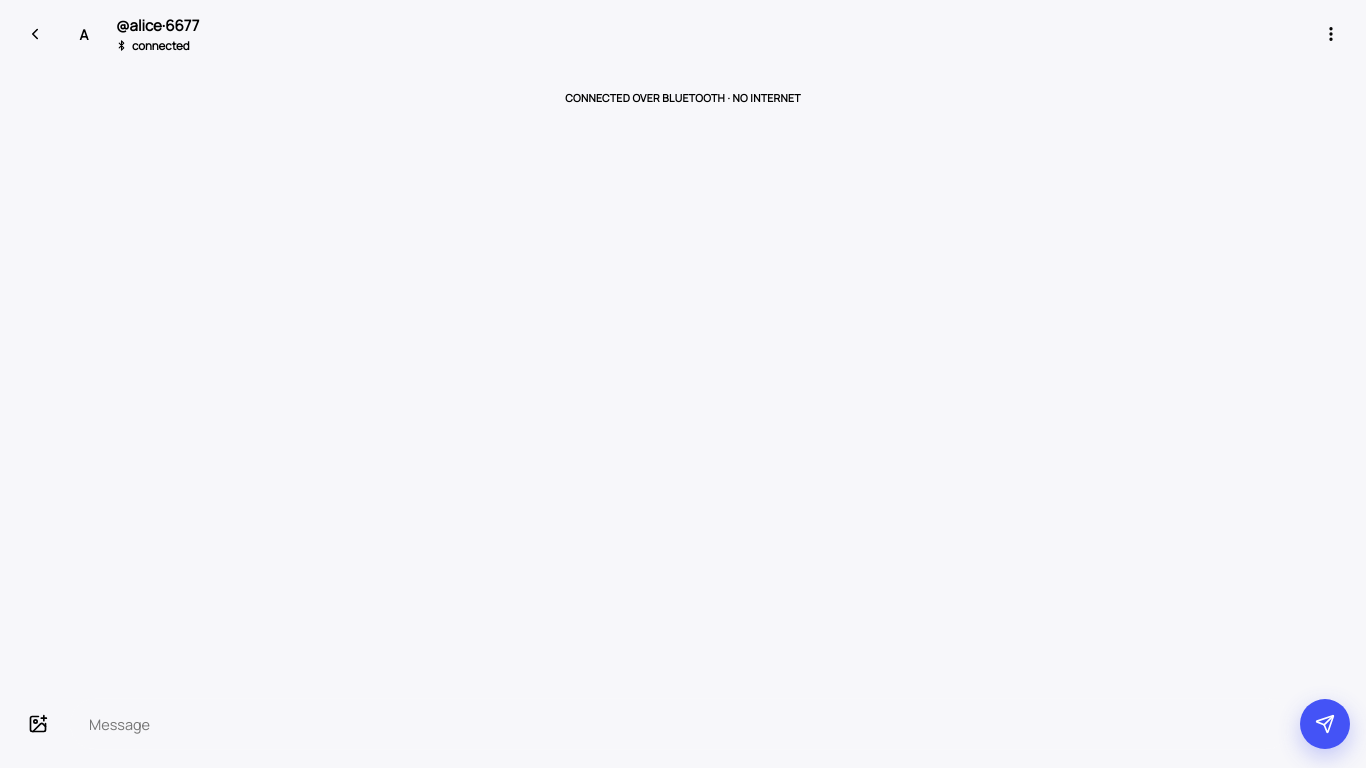
ChatScreen — blocking a contact › keeps the composer and reports it when blocking fails
Click the button named "Chat options" at (1331, 34), box [1314,17,1348,51]
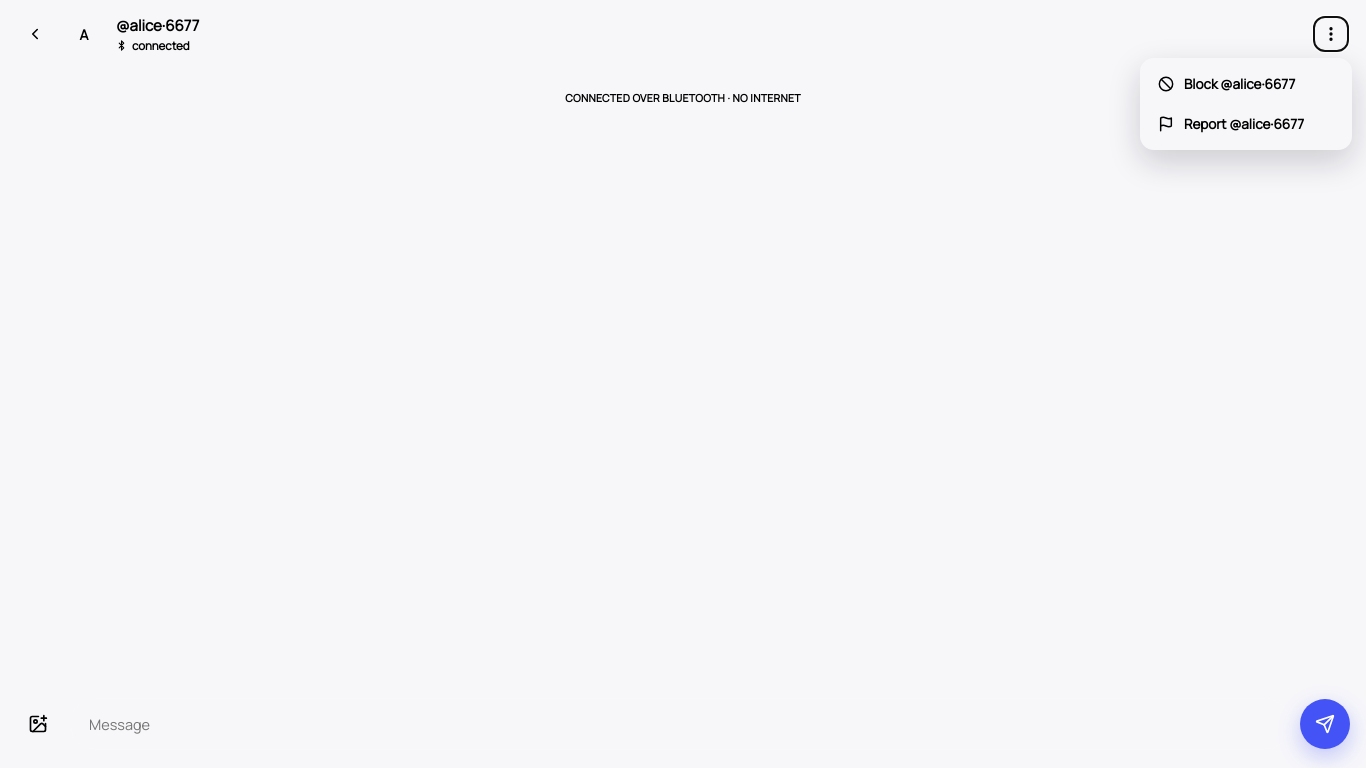
Click the menu item "Block @alice·6677" at (1246, 84), box [1146,64,1346,104]
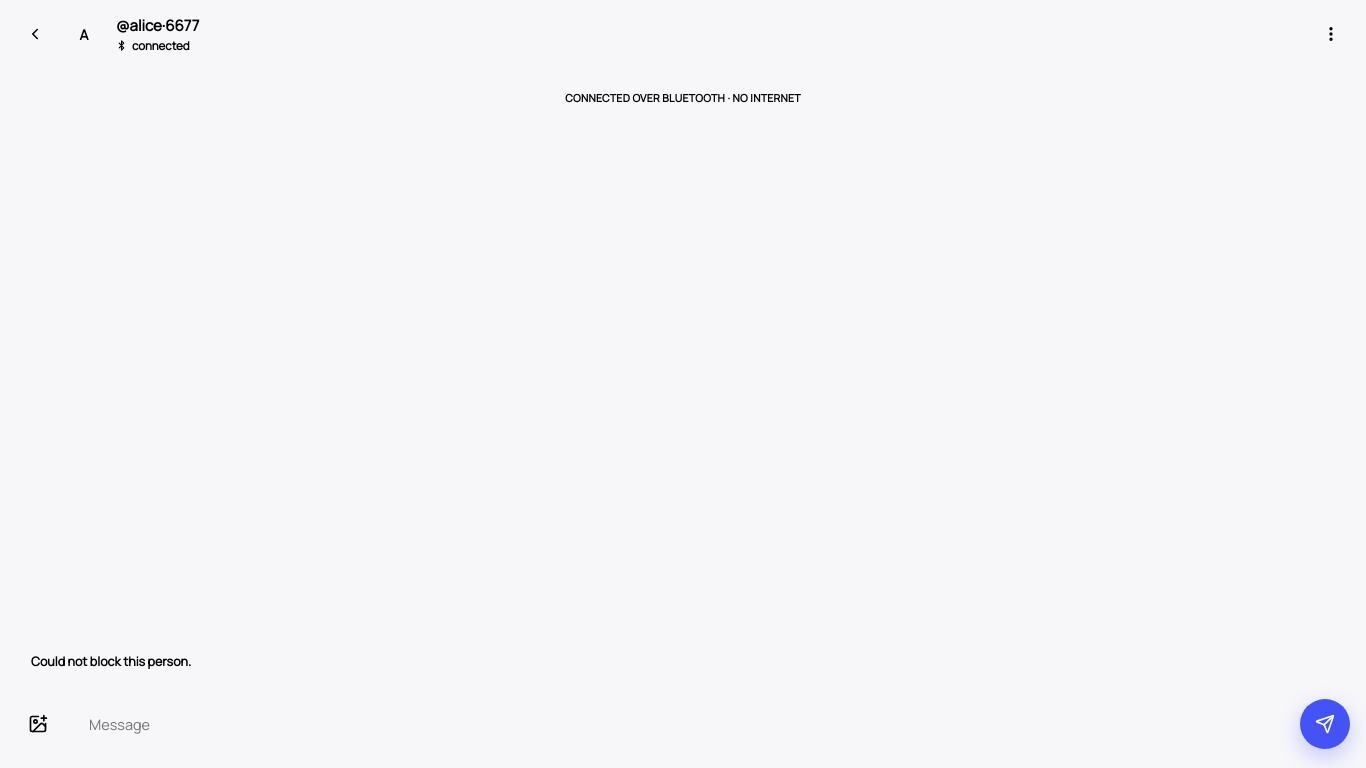
Expected: the field with placeholder "Message" is shown, [87,714,1273,734]
Now the text "Could not block this person." is shown, box [31,653,191,670]
